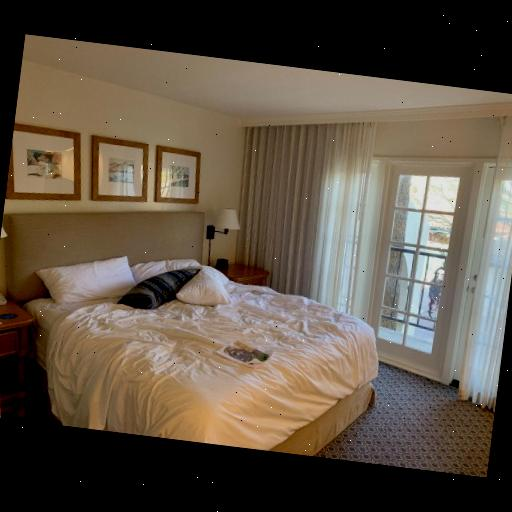Disorganized_pillow: (26, 238, 238, 320)
lamp: (209, 207, 246, 270)
messy_bed: (4, 211, 373, 458)
